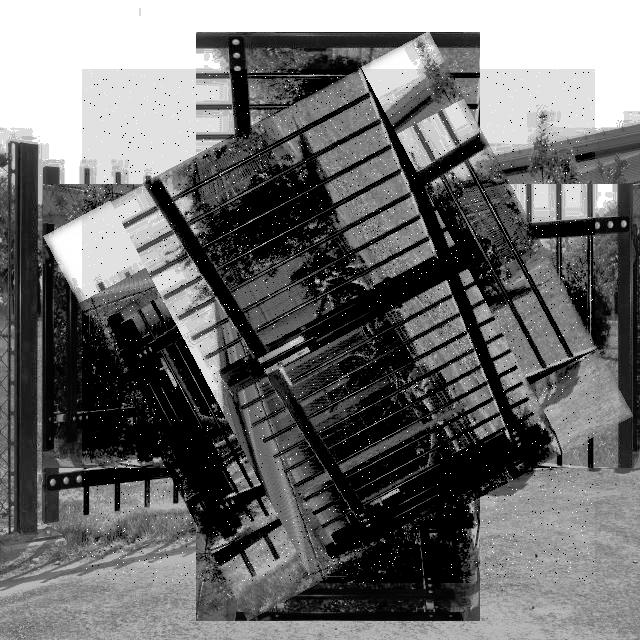fences: (82, 69, 595, 583)
